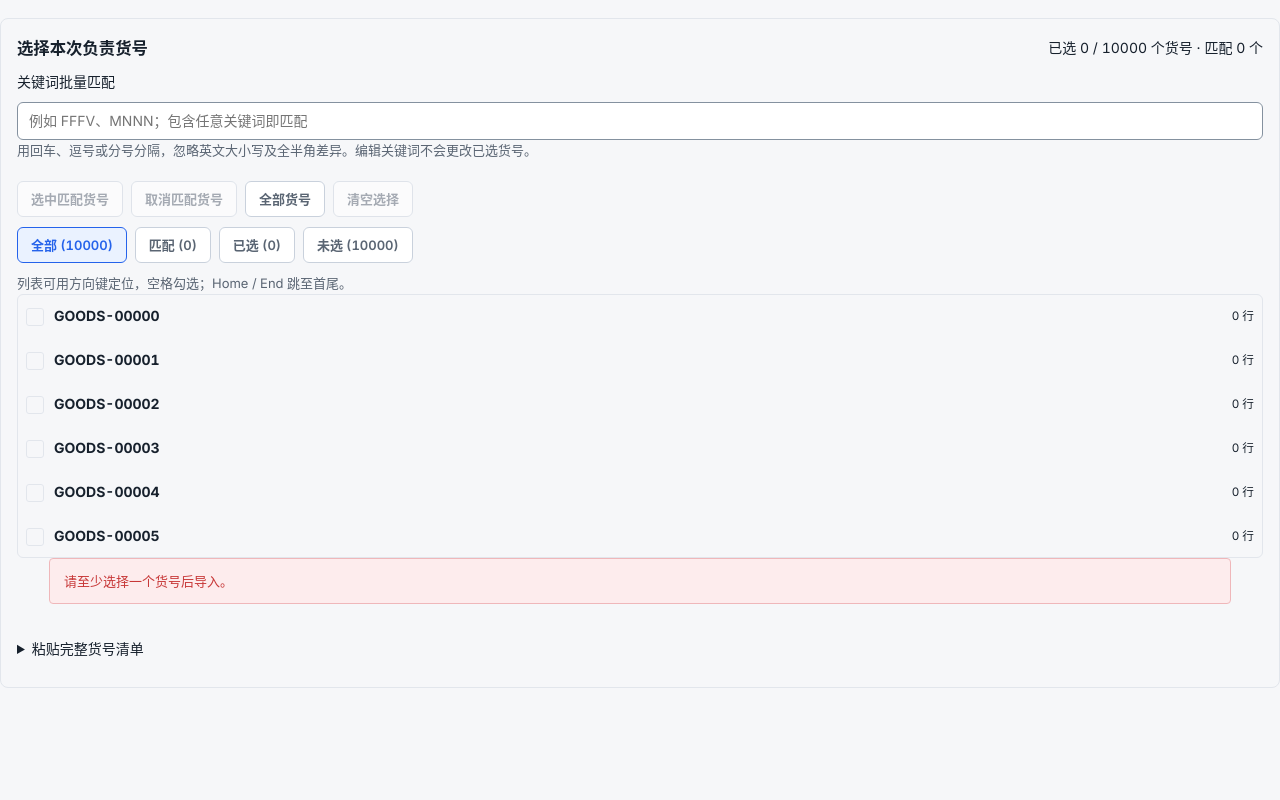
Test: keeps a bounded DOM for 10000 goods and reaches final goods with keyboard navigation
This screenshot has width=1280, height=800.
Press End in the list, box [17,294,1263,558]
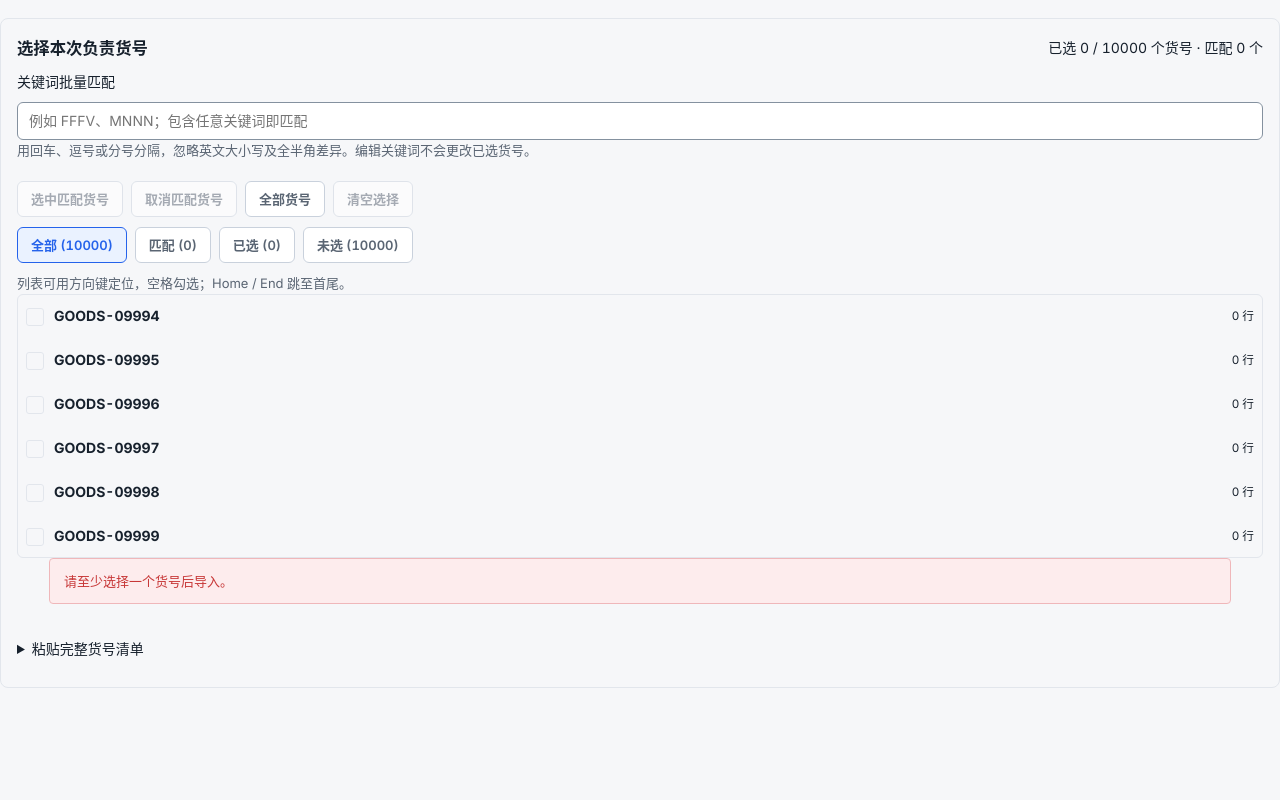
Press Space in the list, box [17,294,1263,558]
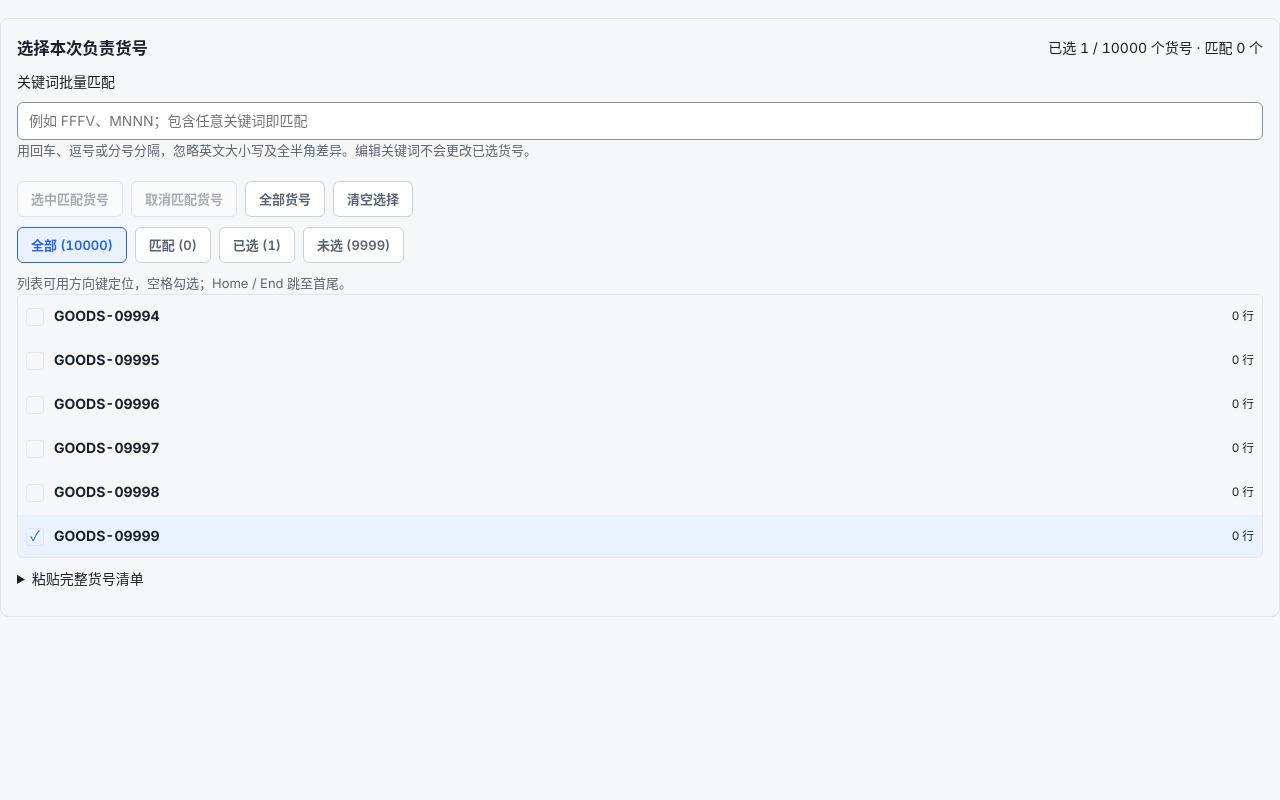
Click the button "已选 (1)".
click(257, 245)  # box [219,227,295,263]
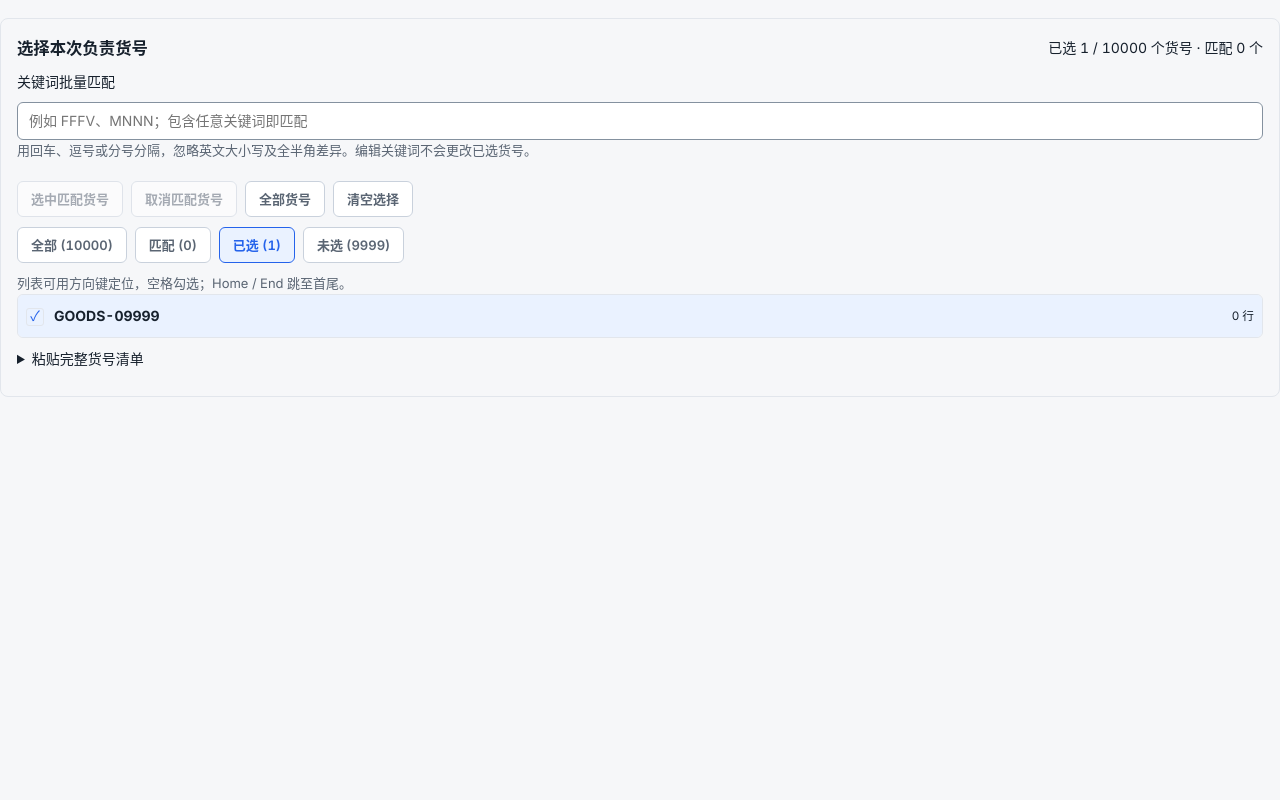
Expected: the number of options is 1, [18,295,1262,338]
